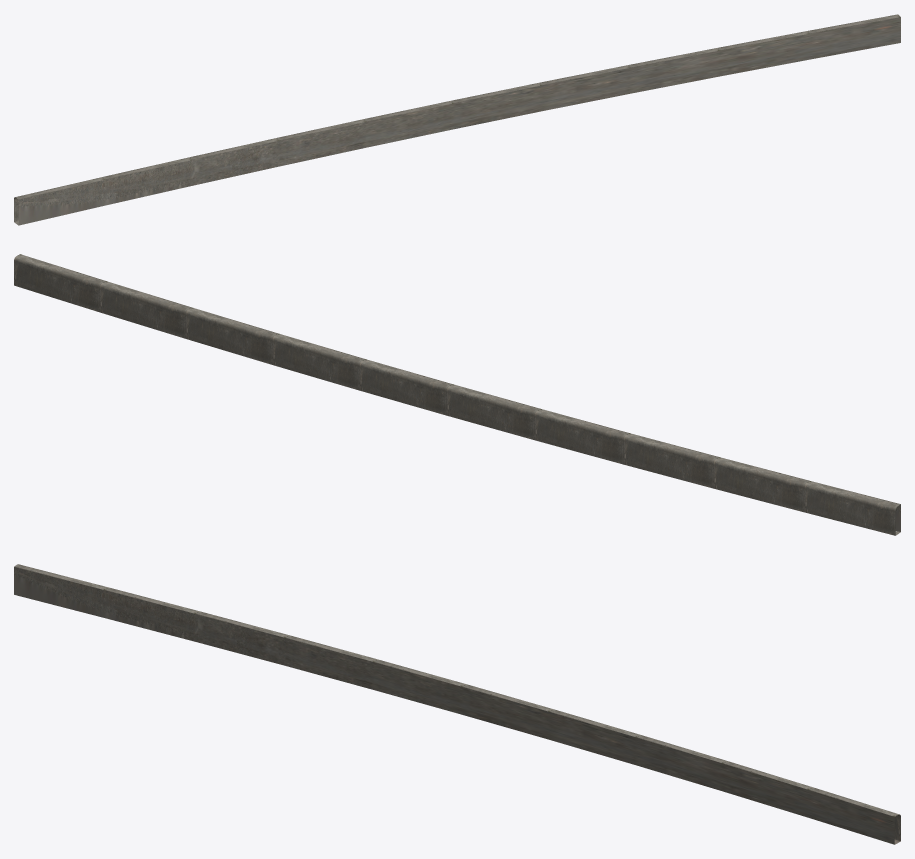
File: SM_Curb_10.glb
3 renders of one model, top to bottom at view 1: azimuth 30°, elevation 25°; view 2: azimuth 150°, elevation 25°; view 3: azimuth 330°, elevation 25°, orthographic. The views are drawn at different scales.
Visible parts, largest first — view 1: SM_Curb_10; view 2: SM_Curb_10; view 3: SM_Curb_10.
Boxes of the visible parts, x1,y1,x2,y2 form: SM_Curb_10: (14,14,900,225); SM_Curb_10: (14,254,900,535); SM_Curb_10: (14,564,900,844).
Size of the model in its own units: 2574 by 75.02 by 200.
1 material, 1 textured.
